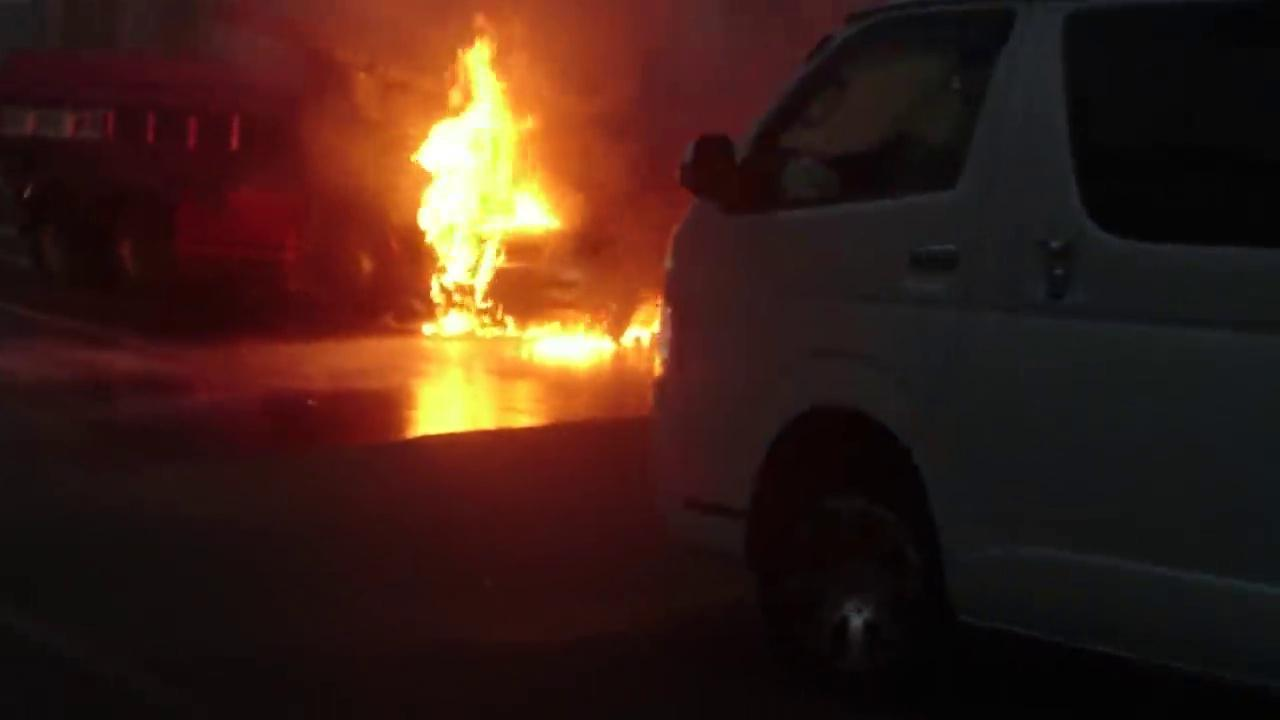Fire: (409, 39, 561, 336), (526, 296, 669, 365)
